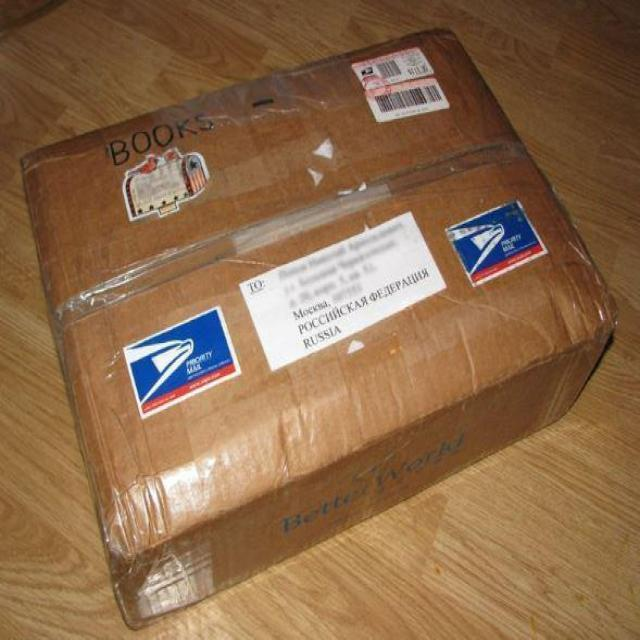box: (18, 28, 614, 640)
